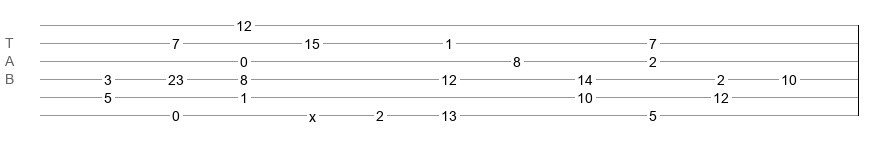0: (172, 108, 180, 118), (240, 54, 248, 64)
1: (240, 90, 248, 100), (445, 36, 453, 46)
10: (577, 90, 593, 100), (781, 72, 797, 82)
12: (236, 18, 252, 28), (441, 72, 457, 82), (713, 90, 729, 100)
13: (441, 108, 457, 118)
14: (577, 72, 593, 82)
15: (304, 36, 320, 46)
2: (376, 108, 384, 118), (649, 54, 657, 64), (717, 72, 725, 82)
23: (168, 72, 184, 82)
3: (104, 72, 112, 82)
5: (104, 90, 112, 100), (649, 108, 657, 118)
7: (172, 36, 180, 46), (649, 36, 657, 46)
8: (240, 72, 248, 82), (513, 54, 521, 64)
x: (309, 109, 316, 117)
